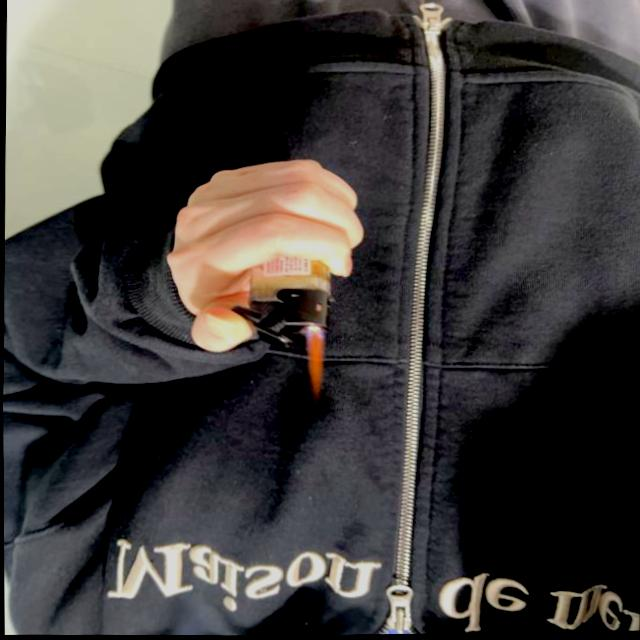helmet: (298, 324, 325, 401)
